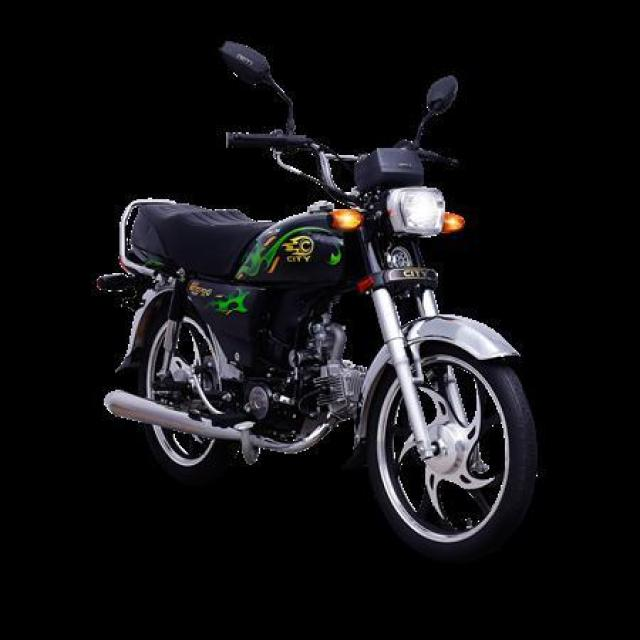motorcycle: (85, 27, 549, 555)
